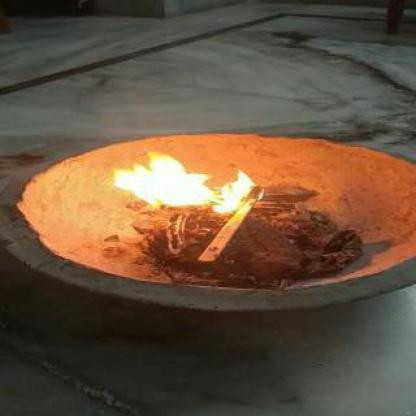fire: (110, 143, 272, 217)
